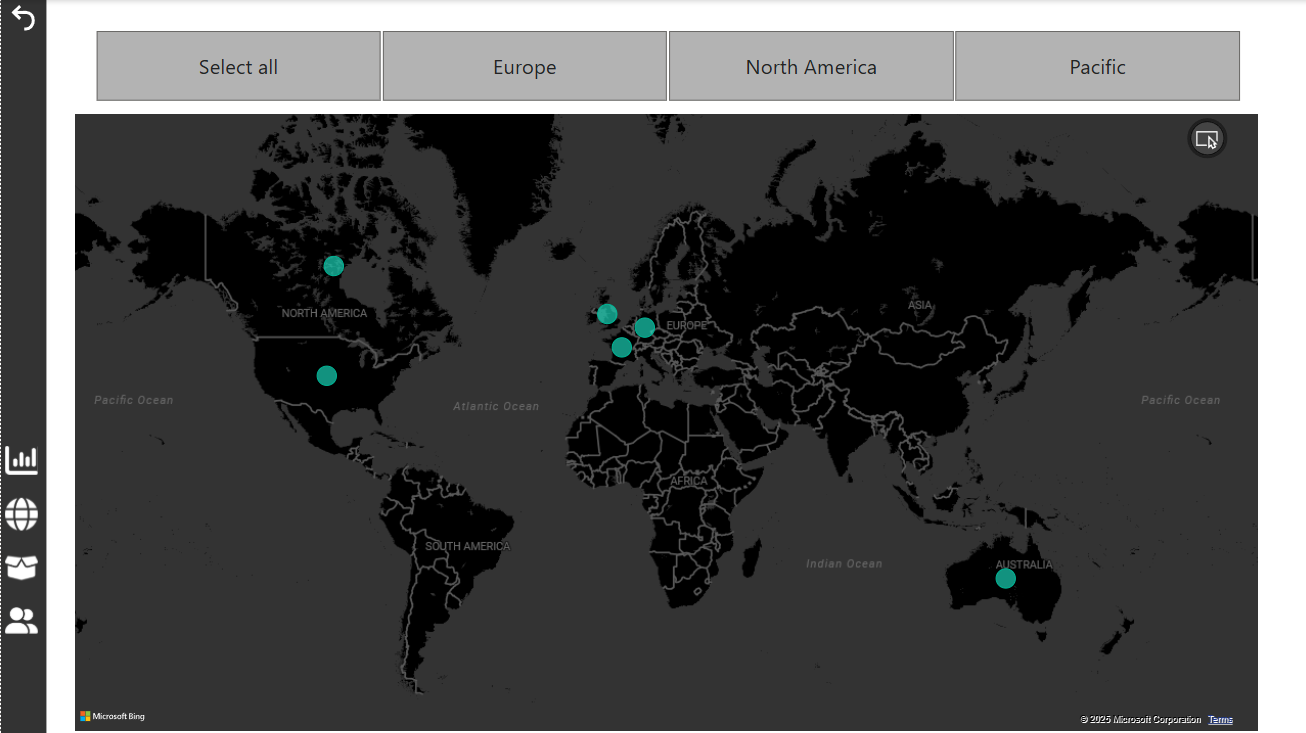

The page's visual inventory and layout, read from the dashboard file:
{"tool":"powerbi","page":{"name":"Map","canvas":[1280,720],"ordinal":1},"visuals":[{"type":"slicer","fields":{"Values":["Territory Lookup.Continent"]},"box":[67.5,23.8,1168.8,82.5],"z":0},{"type":"map","fields":{"Category":["Territory Lookup.Country"]},"box":[67.5,106.2,1167.5,613.8],"z":1000},{"type":"shape","title":"Left nav background","box":[0,0.2,44.4,719.8],"z":2000},{"type":"actionButton","box":[0,587.5,45,40],"z":3000},{"type":"actionButton","box":[0,535,45,40],"z":4000},{"type":"actionButton","box":[0,482.5,45,40],"z":5000},{"type":"actionButton","box":[0,430,45,40],"z":6000},{"type":"actionButton","box":[0,0,44.9,34.8],"z":7000}]}

Visuals, with their boxes on the page's 1280x720 design canvas (x1, y1, x2, y2). These are canvas units, not pixel positions in the 1306x733 screenshot, which may show the page scaled, cropped or inside an application window:
slicer - Territory Lookup.Continent: locate(68, 24, 1236, 106)
map - Territory Lookup.Country: locate(68, 106, 1235, 720)
"Left nav background" shape: locate(0, 0, 44, 720)
actionButton: locate(0, 588, 45, 628)
actionButton: locate(0, 535, 45, 575)
actionButton: locate(0, 482, 45, 522)
actionButton: locate(0, 430, 45, 470)
actionButton: locate(0, 0, 45, 35)
